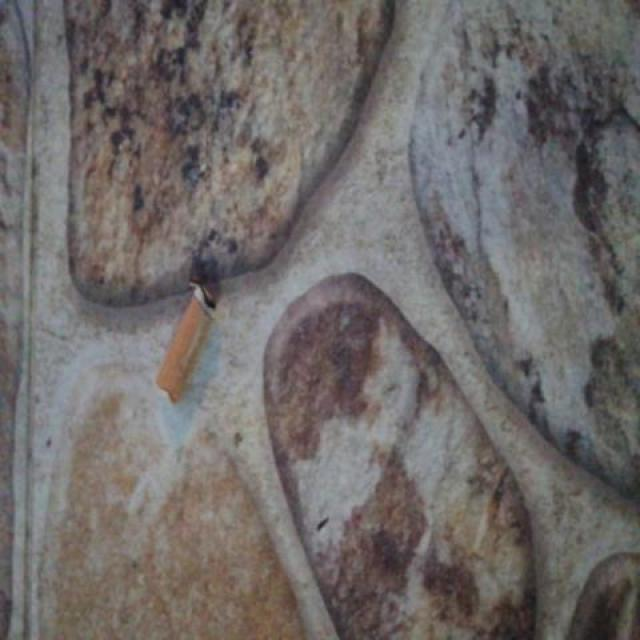non-organic waste: (150, 276, 222, 409)
